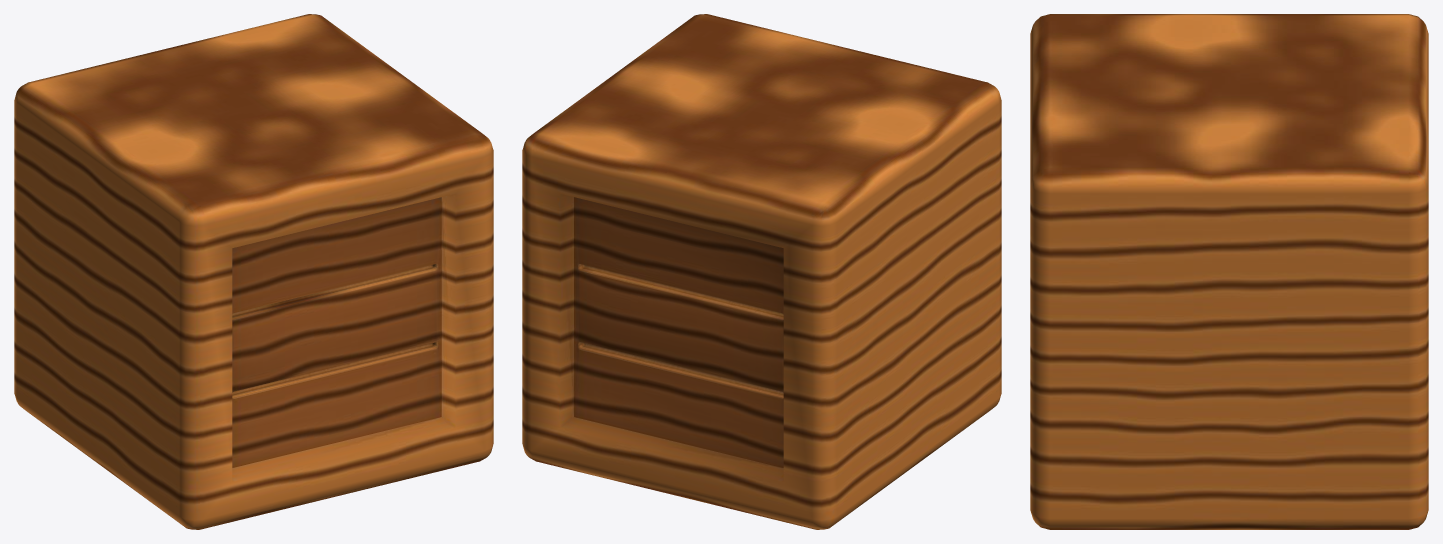
File: sandik.glb
The picture shows the model from 3 angles, left to right: view 1: azimuth 30°, elevation 25°; view 2: azimuth 150°, elevation 25°; view 3: azimuth 270°, elevation 25°; orthographic projection. The views are drawn at different scales.
Parts seen in each view (by area): view 1: blok; view 2: blok; view 3: blok.
Boxes of the visible parts, bbox=[...] form: blok: bbox=[14, 14, 493, 529]; blok: bbox=[522, 14, 1001, 529]; blok: bbox=[1030, 14, 1428, 529].
Size of the model in its own units: 1 by 1 by 1.
2 materials, 2 textured.
